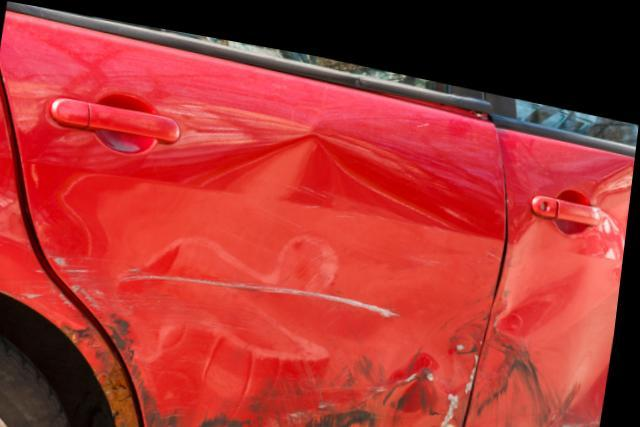dent: (96, 120, 491, 427), (500, 134, 636, 390)
scratch: (13, 271, 154, 427), (479, 311, 610, 427), (211, 369, 392, 427)
